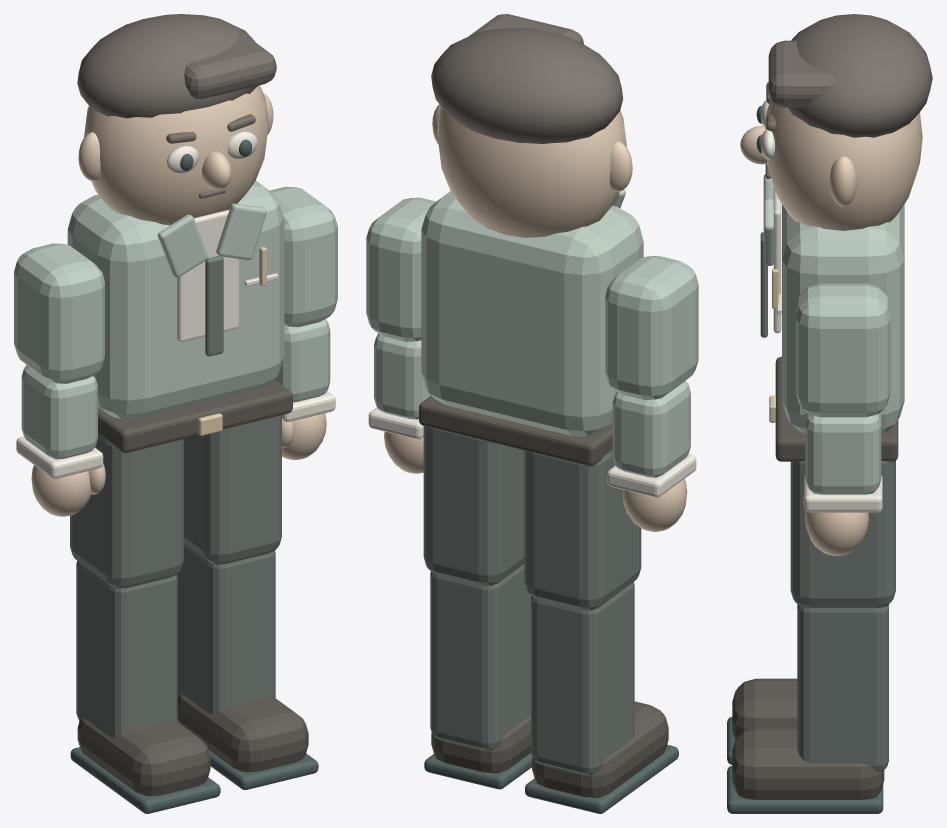
Rendered from blender-worker.glb.
3 views of the same model, side by side, from view 1: azimuth 30°, elevation 25°; view 2: azimuth 150°, elevation 25°; view 3: azimuth 270°, elevation 25° (orthographic). The views are drawn at different scales.
Visible parts, largest first — view 1: Tailored torso, Trouser shin_L, Sculpted head, Trouser shin_R, Trouser thigh_L, Trouser thigh_R, Hair cap, Sleeve_L, Shoe_L, Shoe_R, Sleeve_R, Belt (+15 smaller); view 2: Tailored torso, Hair cap, Trouser shin_L, Trouser shin_R, Sculpted head, Trouser thigh_L, Trouser thigh_R, Sleeve_L, Sleeve_R, Cuff_L, Belt, Shoe_L (+10 smaller); view 3: Trouser shin_R, Hair cap, Sculpted head, Sleeve_R, Tailored torso, Trouser thigh_R, Shoe_R, Cuff_R, Shoe_L, Side part, Sole_R, Hand_R (+7 smaller).
Boxes of the visible parts, <box> form: Tailored torso: <box>67,180,284,419</box>; Trouser shin_L: <box>76,561,177,737</box>; Sculpted head: <box>84,85,268,225</box>; Trouser shin_R: <box>177,543,275,713</box>; Trouser thigh_L: <box>70,432,183,588</box>; Trouser thigh_R: <box>184,415,281,564</box>; Hair cap: <box>77,14,257,118</box>; Sleeve_L: <box>14,243,104,383</box>; Shoe_L: <box>77,718,210,796</box>; Shoe_R: <box>177,694,308,772</box>; Sleeve_R: <box>270,186,337,327</box>; Belt: <box>98,379,292,452</box>; Tailored torso: <box>421,191,643,436</box>; Hair cap: <box>431,28,623,143</box>; Trouser shin_L: <box>531,582,634,775</box>; Trouser shin_R: <box>430,564,531,750</box>; Sculpted head: <box>437,106,626,237</box>; Trouser thigh_L: <box>524,450,641,610</box>; Trouser thigh_R: <box>423,426,524,585</box>; Sleeve_L: <box>605,256,698,399</box>; Sleeve_R: <box>366,197,435,341</box>; Cuff_L: <box>612,381,690,477</box>; Belt: <box>419,396,612,466</box>; Shoe_L: <box>532,701,668,797</box>; Trouser shin_R: <box>797,604,888,771</box>; Hair cap: <box>788,14,932,137</box>; Sculpted head: <box>765,99,922,230</box>; Sleeve_R: <box>795,283,890,417</box>; Tailored torso: <box>782,204,904,433</box>; Trouser thigh_R: <box>790,460,895,608</box>; Shoe_R: <box>732,727,884,799</box>; Cuff_R: <box>805,412,881,494</box>; Shoe_L: <box>732,678,797,740</box>; Side part: <box>768,40,836,107</box>; Sole_R: <box>727,765,883,813</box>; Hand_R: <box>805,511,868,555</box>.
Bounding box in the file's own units: 0.825 × 1.94 × 0.487.
